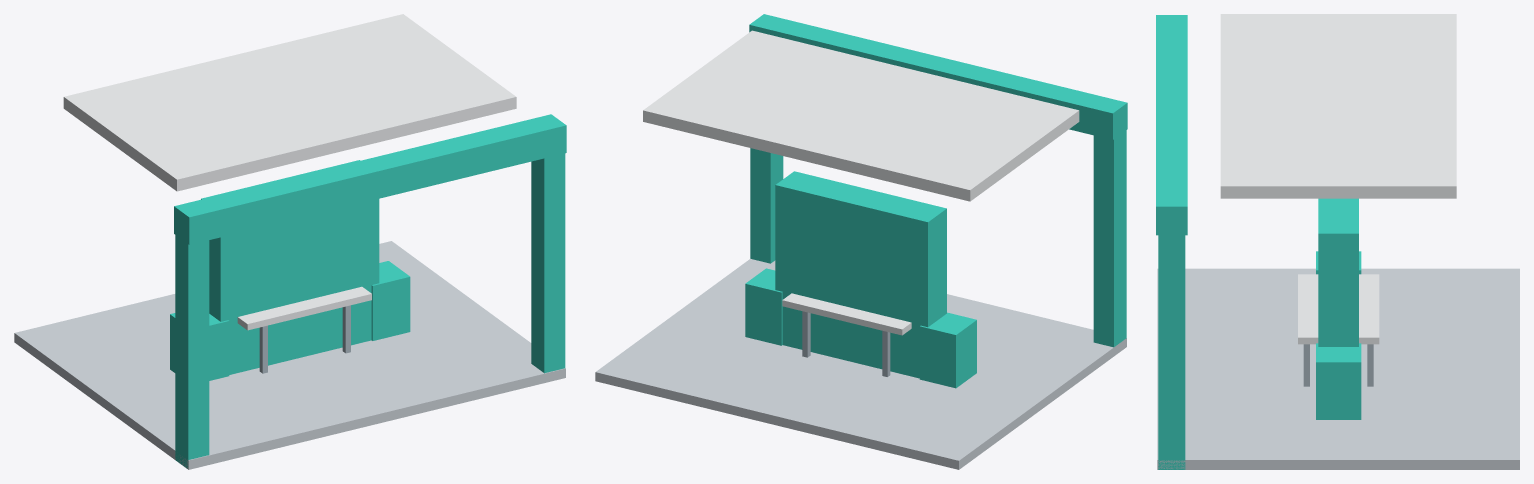
The picture shows the model from 3 angles, left to right: view 1: azimuth 30°, elevation 25°; view 2: azimuth 150°, elevation 25°; view 3: azimuth 270°, elevation 25°; orthographic projection. The views are drawn at different scales.
Parts seen in each view (by area): view 1: Exhibition Booth Concept; view 2: Exhibition Booth Concept; view 3: Exhibition Booth Concept.
Boxes of the visible parts, x1,y1,x2,y2 form: Exhibition Booth Concept: (14, 14, 566, 469); Exhibition Booth Concept: (595, 14, 1127, 469); Exhibition Booth Concept: (1156, 14, 1519, 469).
Size of the model in its own units: 5 by 3.34 by 4.02.
